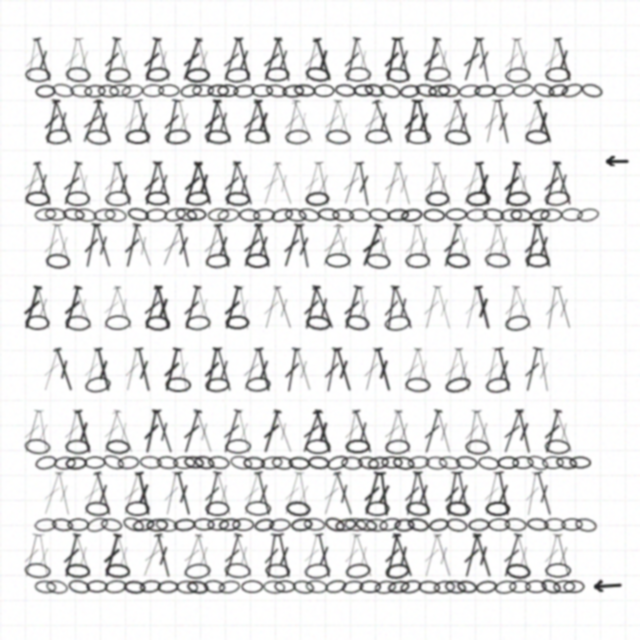chain: (444, 375, 472, 395), (84, 375, 112, 394), (304, 65, 331, 84), (344, 313, 371, 332), (525, 453, 550, 473), (444, 128, 471, 146), (384, 314, 411, 332), (504, 314, 531, 332), (184, 562, 211, 580), (384, 562, 411, 580), (101, 453, 126, 472), (325, 453, 350, 472), (85, 515, 110, 534), (121, 515, 146, 534), (385, 66, 411, 84), (85, 128, 111, 146), (365, 252, 391, 270), (305, 314, 331, 332), (485, 376, 511, 394), (405, 500, 431, 518), (345, 562, 371, 580), (505, 562, 531, 580), (424, 66, 451, 83), (164, 128, 191, 145), (544, 190, 571, 207), (484, 252, 511, 269), (24, 438, 51, 455), (24, 562, 51, 579), (224, 562, 251, 579), (532, 81, 556, 100), (560, 81, 584, 100), (323, 515, 347, 534), (539, 577, 563, 596), (65, 66, 91, 83), (145, 66, 171, 83), (45, 128, 71, 145), (185, 190, 211, 207), (465, 190, 491, 207), (505, 190, 531, 207), (445, 252, 471, 269), (245, 376, 271, 393), (285, 500, 311, 517), (445, 500, 471, 517), (378, 82, 402, 100), (204, 129, 231, 145), (270, 206, 294, 224), (297, 206, 321, 224), (544, 439, 571, 455), (304, 563, 331, 579), (25, 67, 51, 83), (105, 67, 131, 83), (505, 67, 531, 83), (325, 129, 351, 145), (45, 253, 71, 269), (205, 253, 231, 269), (65, 315, 91, 331), (185, 315, 211, 331), (405, 377, 431, 393), (105, 439, 131, 455), (51, 82, 75, 99), (179, 82, 203, 99), (414, 82, 438, 99), (580, 82, 604, 99), (126, 206, 150, 223), (163, 206, 187, 223), (174, 206, 198, 223), (34, 454, 58, 471), (229, 454, 253, 471), (378, 516, 402, 533), (406, 516, 430, 533), (67, 578, 91, 595), (324, 578, 348, 595), (399, 578, 423, 595), (185, 67, 210, 83), (225, 67, 250, 83), (285, 129, 310, 145), (525, 129, 550, 145), (225, 191, 250, 207), (305, 191, 330, 207), (145, 315, 170, 331), (205, 377, 230, 393), (65, 439, 90, 455), (385, 439, 410, 455), (465, 439, 490, 455), (85, 501, 110, 517), (65, 563, 90, 579), (105, 563, 130, 579), (265, 563, 290, 579), (363, 82, 386, 99), (547, 82, 570, 99), (193, 454, 216, 471), (345, 67, 371, 82), (545, 67, 571, 82), (405, 129, 431, 144), (105, 191, 131, 206), (325, 253, 351, 268), (105, 315, 131, 330), (165, 377, 191, 392), (225, 439, 251, 454), (305, 439, 331, 454), (245, 501, 271, 516), (545, 563, 571, 578), (576, 207, 600, 223), (334, 517, 358, 533), (354, 517, 378, 533), (445, 517, 469, 533), (574, 517, 598, 533), (45, 579, 69, 595), (265, 67, 290, 82), (125, 129, 150, 144), (245, 129, 270, 144), (365, 129, 390, 144), (25, 191, 50, 206), (65, 191, 90, 206), (145, 191, 170, 206), (425, 191, 450, 206), (245, 253, 270, 268), (405, 253, 430, 268), (525, 253, 550, 268), (25, 315, 50, 330), (225, 315, 250, 330), (345, 439, 370, 454), (125, 501, 150, 516), (205, 501, 230, 516), (365, 501, 390, 516), (485, 501, 510, 516), (121, 83, 144, 99), (265, 83, 288, 99), (458, 83, 481, 99), (74, 207, 97, 223), (104, 207, 127, 223), (217, 207, 240, 223), (284, 207, 307, 223), (368, 207, 391, 223), (400, 207, 423, 223), (482, 207, 505, 223), (260, 455, 283, 471), (271, 455, 294, 471), (357, 455, 380, 471), (367, 455, 390, 471), (392, 455, 415, 471), (438, 455, 461, 471), (477, 455, 500, 471), (555, 455, 578, 471), (51, 517, 74, 533), (100, 517, 123, 533), (132, 517, 155, 533), (155, 517, 178, 533), (253, 517, 276, 533), (186, 579, 209, 595), (218, 579, 241, 595), (292, 579, 315, 595), (341, 579, 364, 595), (374, 579, 397, 595), (387, 579, 410, 595), (444, 579, 467, 595), (475, 579, 498, 595), (494, 579, 517, 595), (399, 83, 421, 99), (529, 207, 551, 223), (428, 517, 450, 533), (456, 579, 478, 595), (293, 83, 316, 98), (334, 83, 357, 98), (437, 83, 460, 98), (492, 83, 515, 98), (512, 83, 535, 98), (34, 207, 57, 222), (44, 207, 67, 222), (62, 207, 85, 222), (207, 207, 230, 222), (317, 207, 340, 222), (117, 455, 140, 470), (139, 455, 162, 470), (156, 455, 179, 470), (207, 455, 230, 470), (307, 455, 330, 470), (407, 455, 430, 470), (455, 455, 478, 470), (218, 517, 241, 532), (290, 517, 313, 532), (303, 517, 326, 532), (344, 517, 367, 532), (504, 517, 527, 532), (526, 517, 549, 532), (104, 579, 127, 594), (139, 579, 162, 594), (203, 579, 226, 594), (305, 579, 328, 594), (183, 455, 205, 470), (97, 84, 120, 98), (93, 208, 116, 222), (238, 208, 261, 222), (425, 456, 448, 470), (34, 518, 57, 532), (173, 518, 196, 532), (34, 580, 57, 594), (123, 580, 146, 594), (433, 580, 456, 594), (70, 84, 92, 98), (84, 84, 106, 98), (233, 84, 255, 98), (282, 84, 304, 98), (428, 84, 450, 98), (474, 84, 496, 98), (145, 208, 167, 222), (253, 208, 275, 222), (332, 208, 354, 222), (349, 208, 371, 222), (387, 208, 409, 222), (423, 208, 445, 222), (466, 208, 488, 222), (500, 208, 522, 222), (510, 208, 532, 222), (540, 208, 562, 222), (54, 456, 76, 470), (65, 456, 87, 470), (243, 456, 265, 470), (288, 456, 310, 470), (341, 456, 363, 470), (146, 518, 168, 532), (269, 518, 291, 532), (366, 518, 388, 532), (468, 518, 490, 532), (157, 580, 179, 594), (176, 580, 198, 594), (263, 580, 285, 594), (418, 580, 440, 594), (35, 84, 56, 98), (394, 518, 415, 532), (109, 84, 131, 97), (142, 84, 164, 97), (158, 84, 180, 97), (192, 84, 214, 97), (207, 84, 229, 97), (217, 84, 239, 97), (251, 84, 273, 97), (313, 84, 335, 97), (445, 208, 467, 221), (561, 208, 583, 221), (84, 456, 106, 469), (173, 456, 195, 469), (381, 456, 403, 469), (497, 456, 519, 469), (512, 456, 534, 469), (542, 456, 564, 469), (569, 456, 591, 469), (67, 518, 89, 531), (193, 518, 215, 531), (207, 518, 229, 531), (232, 518, 254, 531), (488, 518, 510, 531), (544, 518, 566, 531), (561, 518, 583, 531), (86, 580, 108, 593), (241, 580, 263, 593), (274, 580, 296, 593), (359, 580, 381, 593), (509, 580, 531, 593), (525, 580, 547, 593), (553, 580, 575, 593), (563, 580, 585, 593), (353, 84, 374, 97), (186, 208, 207, 221)
double: (288, 98, 319, 145), (77, 98, 107, 145), (157, 222, 187, 269), (317, 222, 347, 269), (309, 284, 339, 331), (109, 408, 139, 455), (137, 532, 167, 579), (177, 36, 206, 83), (49, 98, 78, 145), (369, 98, 398, 145), (509, 160, 538, 207), (129, 222, 158, 269), (357, 222, 386, 269), (69, 284, 98, 331), (389, 284, 418, 331), (509, 284, 538, 331), (269, 408, 298, 455), (297, 408, 326, 455), (349, 408, 378, 455), (177, 532, 206, 579), (389, 532, 418, 579), (110, 36, 138, 83), (430, 36, 458, 83), (358, 98, 386, 145), (518, 98, 546, 145), (230, 160, 258, 207), (270, 160, 298, 207), (238, 222, 266, 269), (110, 284, 138, 331), (270, 284, 298, 331), (50, 346, 78, 393), (150, 408, 178, 455), (190, 408, 218, 455), (470, 408, 498, 455), (498, 408, 526, 455), (550, 408, 578, 455), (38, 470, 66, 517), (78, 470, 106, 517), (330, 470, 358, 517), (230, 532, 258, 579), (350, 532, 378, 579), (30, 36, 57, 83), (218, 36, 245, 83), (258, 36, 285, 83), (310, 36, 337, 83), (350, 36, 377, 83), (458, 36, 485, 83), (510, 36, 537, 83), (90, 98, 117, 145), (210, 98, 237, 145), (238, 98, 265, 145), (438, 98, 465, 145), (450, 98, 477, 145), (530, 98, 557, 145), (18, 160, 45, 207), (30, 160, 57, 207), (58, 160, 85, 207), (258, 160, 285, 207), (338, 160, 365, 207), (430, 160, 457, 207), (458, 160, 485, 207), (550, 160, 577, 207), (90, 222, 117, 269), (278, 222, 305, 269), (330, 222, 357, 269), (370, 222, 397, 269), (438, 222, 465, 269), (98, 284, 125, 331), (38, 346, 65, 393), (238, 346, 265, 393), (290, 346, 317, 393), (330, 346, 357, 393), (398, 346, 425, 393), (98, 408, 125, 455), (178, 408, 205, 455), (218, 408, 245, 455), (258, 408, 285, 455), (310, 408, 337, 455), (90, 470, 117, 517), (118, 470, 145, 517), (238, 470, 265, 517), (318, 470, 345, 517), (70, 532, 97, 579), (430, 532, 457, 579), (470, 532, 497, 579), (498, 532, 525, 579), (551, 36, 577, 83), (319, 98, 345, 145), (331, 98, 357, 145), (71, 160, 97, 207), (111, 160, 137, 207), (179, 160, 205, 207), (191, 160, 217, 207), (299, 160, 325, 207), (379, 160, 405, 207), (391, 160, 417, 207), (51, 222, 77, 269), (199, 222, 225, 269), (411, 222, 437, 269), (451, 222, 477, 269), (491, 222, 517, 269), (531, 222, 557, 269), (19, 284, 45, 331), (59, 284, 85, 331), (139, 284, 165, 331), (191, 284, 217, 331), (219, 284, 245, 331), (339, 284, 365, 331), (431, 284, 457, 331), (551, 284, 577, 331), (211, 346, 237, 393), (439, 346, 465, 393), (19, 408, 45, 455), (71, 408, 97, 455), (379, 408, 405, 455), (391, 408, 417, 455), (419, 408, 445, 455), (431, 408, 457, 455), (539, 408, 565, 455), (211, 470, 237, 517), (279, 470, 305, 517), (359, 470, 385, 517), (531, 470, 557, 517), (99, 532, 125, 579), (111, 532, 137, 579), (191, 532, 217, 579), (219, 532, 245, 579), (511, 532, 537, 579), (139, 36, 164, 83), (151, 36, 176, 83), (191, 36, 216, 83), (271, 36, 296, 83), (299, 36, 324, 83), (419, 36, 444, 83), (131, 98, 156, 145), (251, 98, 276, 145), (411, 98, 436, 145), (139, 160, 164, 207), (151, 160, 176, 207), (499, 160, 524, 207), (539, 160, 564, 207), (211, 222, 236, 269), (251, 222, 276, 269), (31, 284, 56, 331), (151, 284, 176, 331), (179, 284, 204, 331), (259, 284, 284, 331), (299, 284, 324, 331), (419, 284, 444, 331), (471, 284, 496, 331), (79, 346, 104, 393), (91, 346, 116, 393), (159, 346, 184, 393), (359, 346, 384, 393), (371, 346, 396, 393), (411, 346, 436, 393), (59, 408, 84, 455), (171, 470, 196, 517), (251, 470, 276, 517), (411, 470, 436, 517), (479, 470, 504, 517), (19, 532, 44, 579), (59, 532, 84, 579), (151, 532, 176, 579), (299, 532, 324, 579), (419, 532, 444, 579), (459, 532, 484, 579), (539, 532, 564, 579), (551, 532, 576, 579), (60, 36, 84, 83), (72, 36, 96, 83), (100, 36, 124, 83), (232, 36, 256, 83), (340, 36, 364, 83), (392, 36, 416, 83), (540, 36, 564, 83), (172, 98, 196, 145), (200, 98, 224, 145), (280, 98, 304, 145), (220, 160, 244, 207), (472, 160, 496, 207), (120, 222, 144, 269), (480, 222, 504, 269), (460, 284, 484, 331), (120, 346, 144, 393), (132, 346, 156, 393), (200, 346, 224, 393), (252, 346, 276, 393), (452, 346, 476, 393), (492, 346, 516, 393), (520, 346, 544, 393), (232, 408, 256, 455), (512, 408, 536, 455), (52, 470, 76, 517), (132, 470, 156, 517), (200, 470, 224, 517), (400, 470, 424, 517), (272, 532, 296, 579), (312, 532, 336, 579), (380, 532, 404, 579), (380, 36, 403, 83), (40, 98, 63, 145), (120, 98, 143, 145), (160, 98, 183, 145), (400, 98, 423, 145), (480, 98, 503, 145), (492, 98, 515, 145), (100, 160, 123, 207), (312, 160, 335, 207), (40, 222, 63, 269), (80, 222, 103, 269), (172, 222, 195, 269), (520, 222, 543, 269), (500, 284, 523, 331), (480, 346, 503, 393), (140, 408, 163, 455), (340, 408, 363, 455), (160, 470, 183, 517), (452, 470, 475, 517), (492, 470, 515, 517), (340, 532, 363, 579), (21, 37, 43, 83), (473, 37, 495, 83), (501, 37, 523, 83), (353, 161, 375, 207), (421, 161, 443, 207), (293, 223, 315, 269), (401, 223, 423, 269), (233, 285, 255, 331), (541, 285, 563, 331), (281, 347, 303, 393), (321, 347, 343, 393), (533, 347, 555, 393), (461, 409, 483, 455), (293, 471, 315, 517), (441, 471, 463, 517), (521, 471, 543, 517), (33, 533, 55, 579), (353, 285, 374, 331), (381, 285, 402, 331), (173, 347, 194, 393), (33, 409, 54, 455), (261, 533, 282, 579), (374, 471, 394, 517)
noise: (591, 579, 622, 592), (603, 156, 629, 166)
